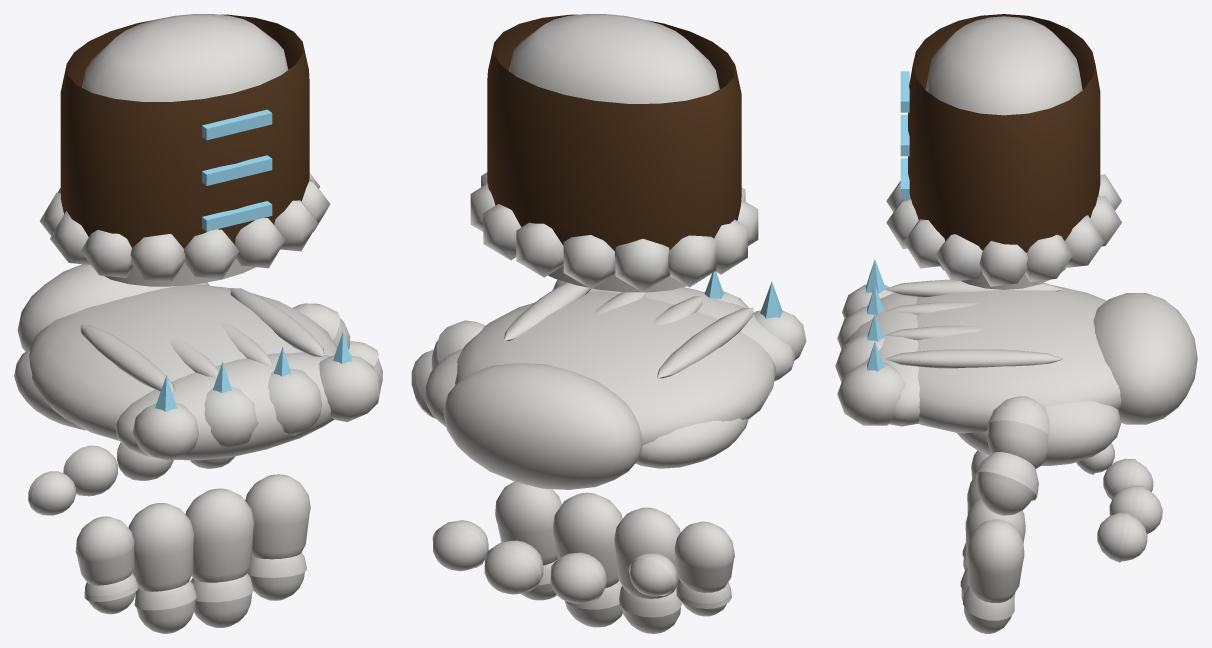
The model's file is Islandia_Mano.fbx.
3 renders of one model, left to right at view 1: azimuth 30°, elevation 25°; view 2: azimuth 150°, elevation 25°; view 3: azimuth 270°, elevation 25°, orthographic. The views are drawn at different scales.
Parts seen in each view (by area): view 1: Antebrazo, Palma, Dedo_Medio_1, Dedo_Anular_1, Dedo_Indice_1, Dedo_Menique_1, Dedo_Medio_2, Dedo_Anular_2, Dedo_Indice_2, Dedo_Anular_3, Dedo_Menique_3, Dedo_Menique_2 (+3 smaller); view 2: Antebrazo, Palma, Dedo_Medio_1, Dedo_Indice_1, Dedo_Menique_1, Dedo_Anular_1, Dedo_Medio_3, Dedo_Anular_3, Dedo_Indice_3, Dedo_Anular_2, Dedo_Menique_3, Dedo_Medio_2 (+4 smaller); view 3: Antebrazo, Palma, Dedo_Indice_1, Pulgar_1, Pulgar_2, Dedo_Indice_3, Dedo_Medio_3, Dedo_Indice_2, Dedo_Anular_3, Dedo_Medio_1, Dedo_Menique_3.
Part boxes in pixels (x1,y1,x2,y2): Antebrazo: (40, 14, 330, 286); Palma: (14, 264, 381, 460); Dedo_Medio_1: (185, 488, 254, 582); Dedo_Anular_1: (128, 503, 193, 591); Dedo_Indice_1: (245, 474, 310, 559); Dedo_Menique_1: (75, 516, 134, 585); Dedo_Medio_2: (191, 573, 253, 627); Dedo_Anular_2: (134, 580, 196, 633); Dedo_Indice_2: (247, 552, 306, 600); Dedo_Anular_3: (63, 445, 118, 496); Dedo_Menique_3: (28, 471, 75, 515); Dedo_Menique_2: (84, 573, 138, 614); Antebrazo: (470, 14, 758, 292); Palma: (424, 271, 806, 489); Dedo_Medio_1: (553, 492, 622, 588); Dedo_Indice_1: (495, 481, 561, 565); Dedo_Menique_1: (674, 521, 734, 592); Dedo_Anular_1: (614, 507, 680, 598); Dedo_Medio_3: (484, 540, 543, 594); Dedo_Anular_3: (550, 552, 606, 603); Dedo_Indice_3: (432, 520, 488, 571); Dedo_Anular_2: (619, 586, 682, 633); Dedo_Menique_3: (628, 553, 677, 596); Dedo_Medio_2: (565, 580, 622, 627); Antebrazo: (886, 14, 1121, 289); Palma: (835, 259, 1197, 465); Dedo_Indice_1: (967, 519, 1024, 602); Pulgar_1: (986, 396, 1050, 469); Pulgar_2: (974, 452, 1038, 515); Dedo_Indice_3: (1097, 513, 1147, 562); Dedo_Medio_3: (1109, 485, 1162, 534); Dedo_Indice_2: (963, 586, 1014, 633); Dedo_Anular_3: (1103, 458, 1153, 499); Dedo_Medio_1: (965, 497, 1025, 567); Dedo_Menique_3: (1076, 443, 1114, 474).
Size of the model in its own units: 0.6049 by 1.05 by 0.6031.
